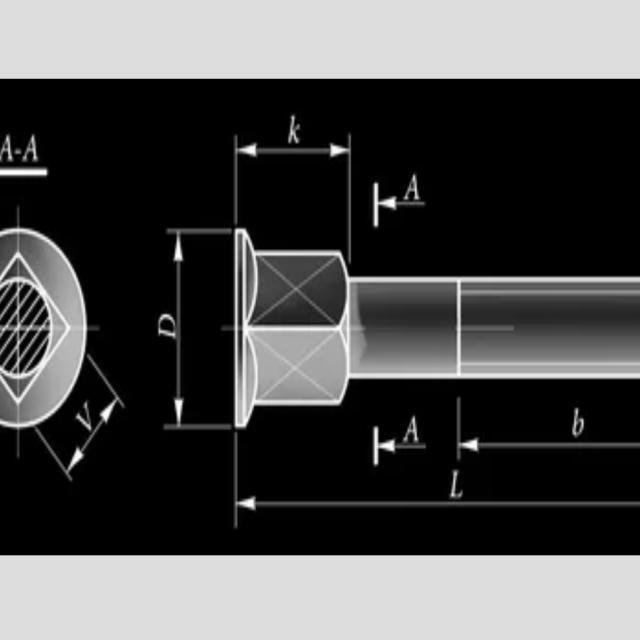marking_line: (232, 431, 640, 531), (165, 224, 232, 431), (455, 397, 640, 461), (234, 135, 353, 227), (64, 400, 125, 478), (366, 408, 429, 470), (374, 174, 431, 231), (0, 162, 50, 181)
